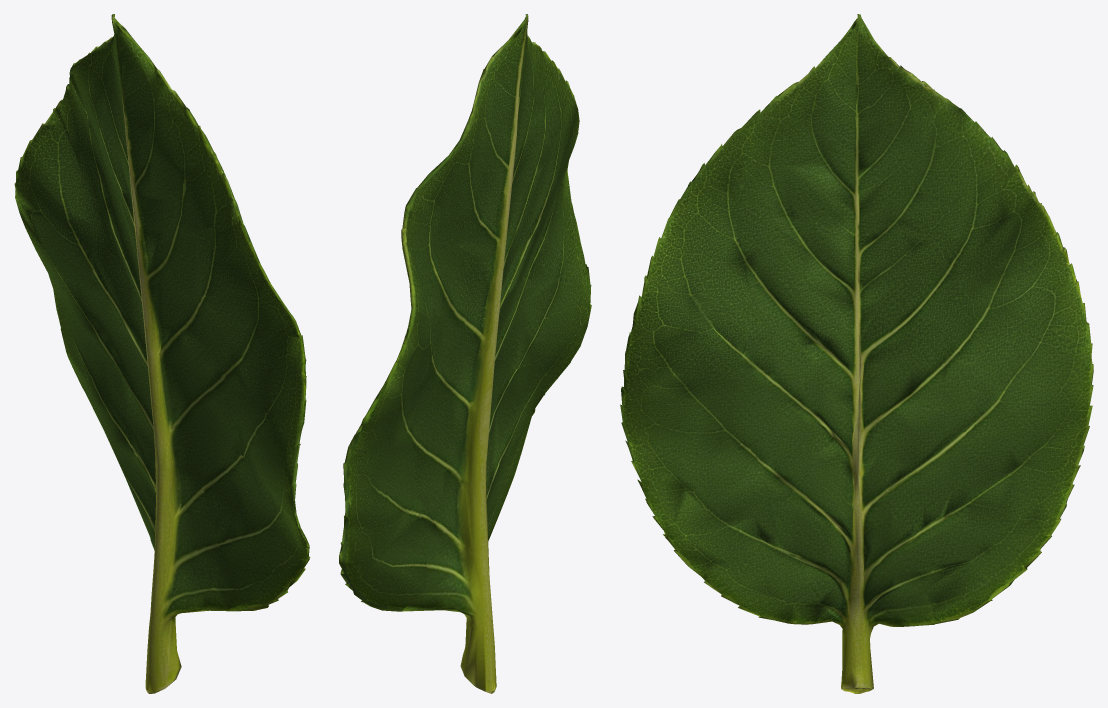
The model's file is leafcard.glb.
The picture shows the model from 3 angles, left to right: view 1: azimuth 30°, elevation 25°; view 2: azimuth 150°, elevation 25°; view 3: azimuth 270°, elevation 25°; orthographic projection. The views are drawn at different scales.
Parts seen in each view (by area): view 1: tripo_node_b59f5614-e054-414b-b1bf-3f1816f5cf16; view 2: tripo_node_b59f5614-e054-414b-b1bf-3f1816f5cf16; view 3: tripo_node_b59f5614-e054-414b-b1bf-3f1816f5cf16.
Part boxes in pixels (x1,y1,x2,y2): tripo_node_b59f5614-e054-414b-b1bf-3f1816f5cf16: [14, 14, 310, 693]; tripo_node_b59f5614-e054-414b-b1bf-3f1816f5cf16: [339, 14, 591, 693]; tripo_node_b59f5614-e054-414b-b1bf-3f1816f5cf16: [620, 14, 1093, 693].
Size of the model in its own units: 0.0226 by 0.1498 by 0.0969.
Materials: 1 (1 with a texture image).
